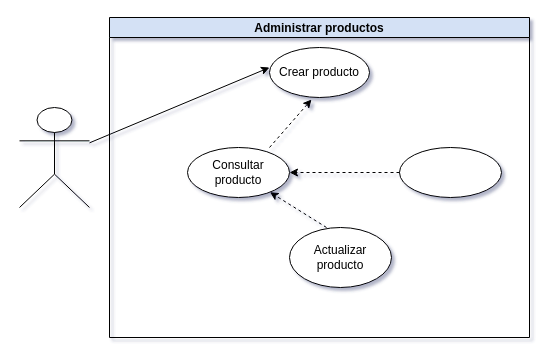
Some shapes in this 553 by 361 pixel diagram are drawn without their labels. The shapes that lost their labels are listed below. From the top down, each one's centre as x and y in pixels, then its label:
At point 54,157: "Administrador".
At point 450,172: "Eliminar producto".
